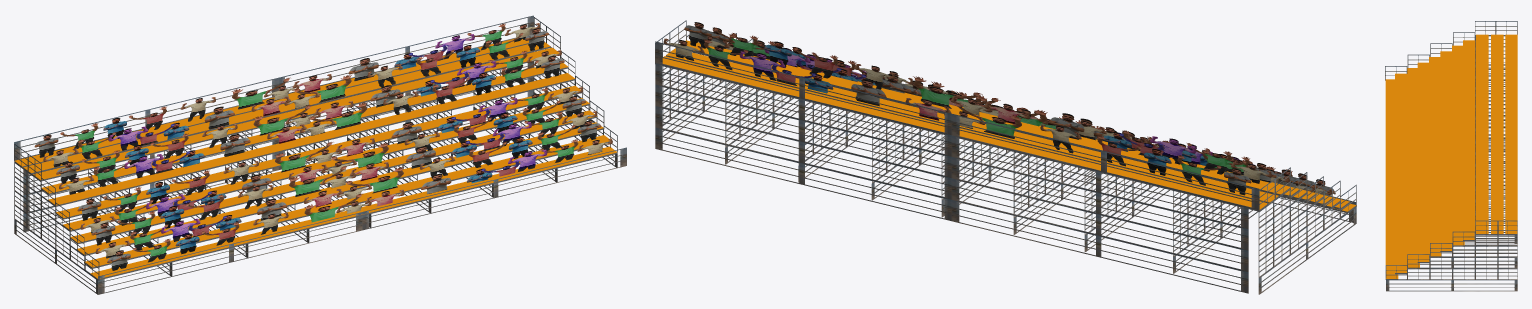
File: Tribune.fbx
The picture shows the model from 3 angles, left to right: view 1: azimuth 30°, elevation 25°; view 2: azimuth 150°, elevation 25°; view 3: azimuth 270°, elevation 25°; orthographic projection. The views are drawn at different scales.
Visible parts, largest first — view 1: Tribune; view 2: Tribune; view 3: Tribune.
Boxes of the visible parts, x1,y1,x2,y2 form: Tribune: (14, 15, 626, 294); Tribune: (655, 20, 1356, 294); Tribune: (1385, 21, 1517, 291).
Size of the model in its own units: 5909 by 1039 by 1617.
